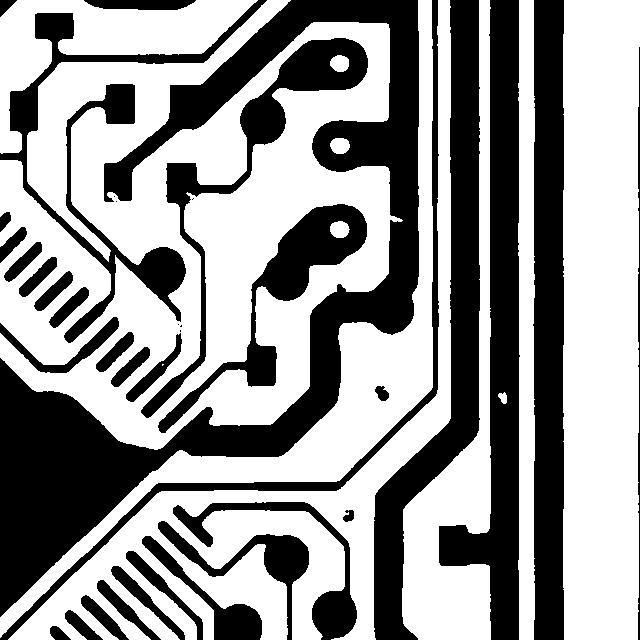copper: (365, 376, 398, 410), (333, 500, 363, 531)
mousebite: (376, 203, 412, 231), (176, 182, 206, 213), (97, 182, 129, 211)
open: (163, 310, 194, 344)
pin-hole: (488, 382, 516, 413)
short: (99, 241, 125, 283)
spur: (327, 274, 355, 305)
